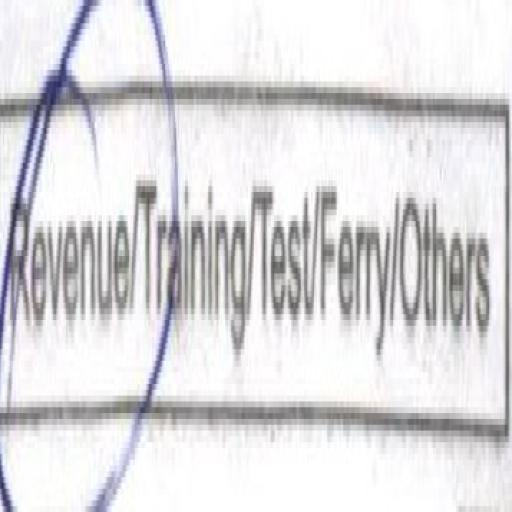check: (0, 29, 139, 512)
